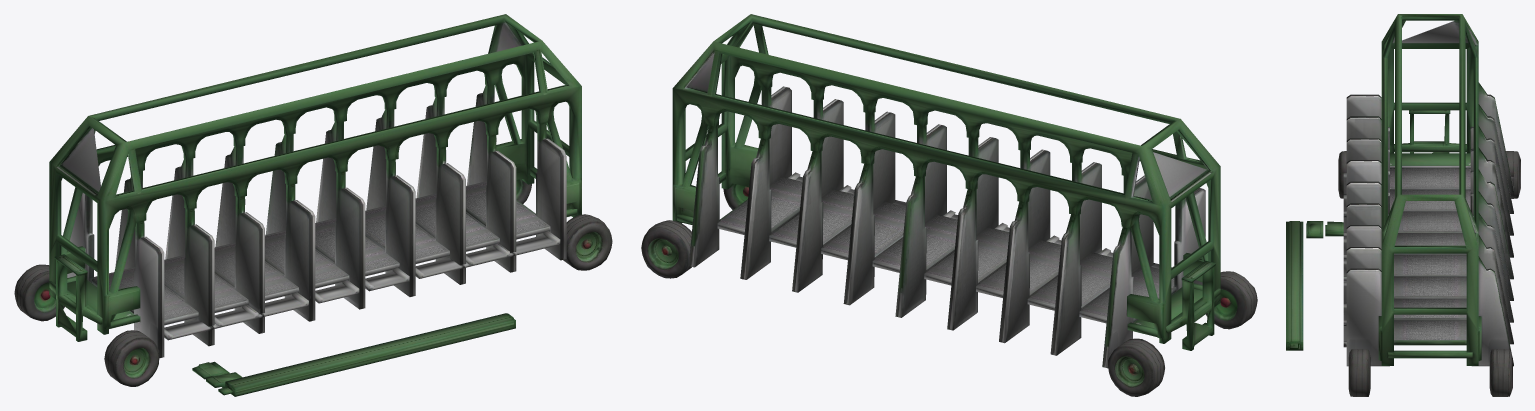
File: startgate.glb
3 renders of one model, left to right at view 1: azimuth 30°, elevation 25°; view 2: azimuth 150°, elevation 25°; view 3: azimuth 270°, elevation 25°, orthographic. The views are drawn at different scales.
Parts seen in each view (by area): view 1: tripo_node_39f70054-8f44-4856-88e3-262da0ec909a; view 2: tripo_node_39f70054-8f44-4856-88e3-262da0ec909a; view 3: tripo_node_39f70054-8f44-4856-88e3-262da0ec909a.
Part boxes in pixels (left/top/right/bottom): tripo_node_39f70054-8f44-4856-88e3-262da0ec909a: left=14, top=14, right=612, bottom=396; tripo_node_39f70054-8f44-4856-88e3-262da0ec909a: left=641, top=14, right=1257, bottom=396; tripo_node_39f70054-8f44-4856-88e3-262da0ec909a: left=1286, top=14, right=1520, bottom=396.
Size of the model in its own units: 0.998 by 0.416 by 0.4551.
1 material, 1 textured.
